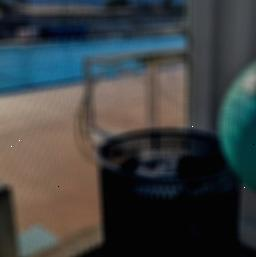algae: (215, 39, 256, 198)
